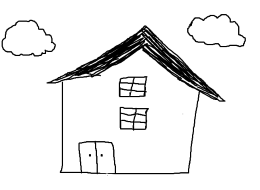closed_window: (117, 104, 150, 133), (115, 74, 150, 99)
clouds: (185, 12, 249, 51), (0, 17, 56, 58)
door: (75, 137, 120, 178)
shaded_roof: (46, 25, 225, 103)
wall: (58, 64, 201, 177)
